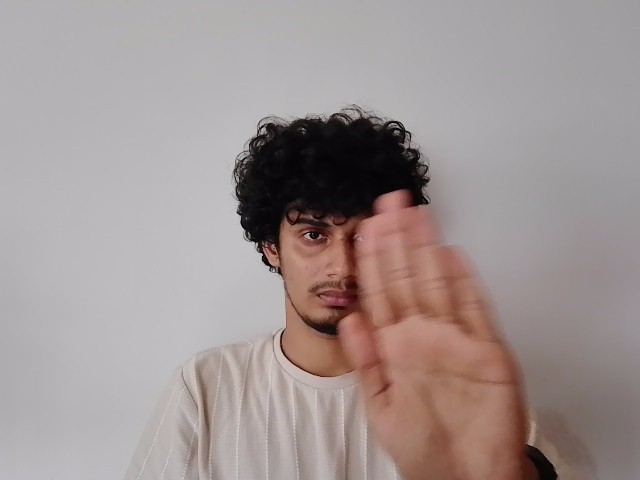hello: (336, 190, 531, 472)
